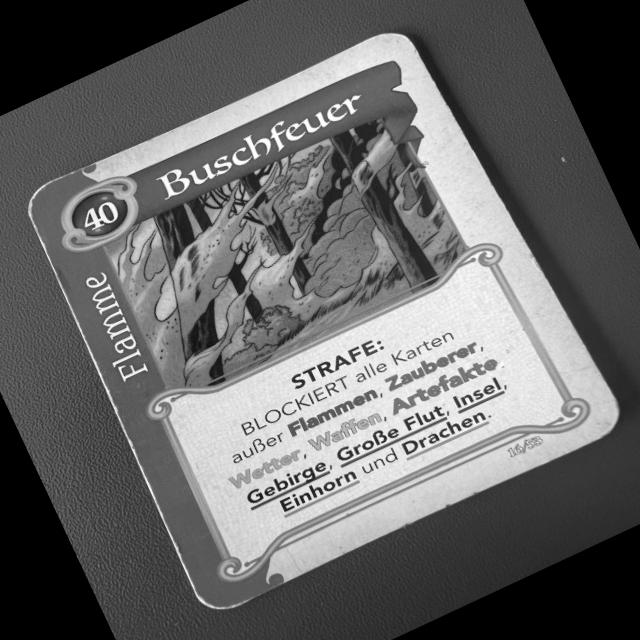Wildfire: (11, 16, 640, 626)
